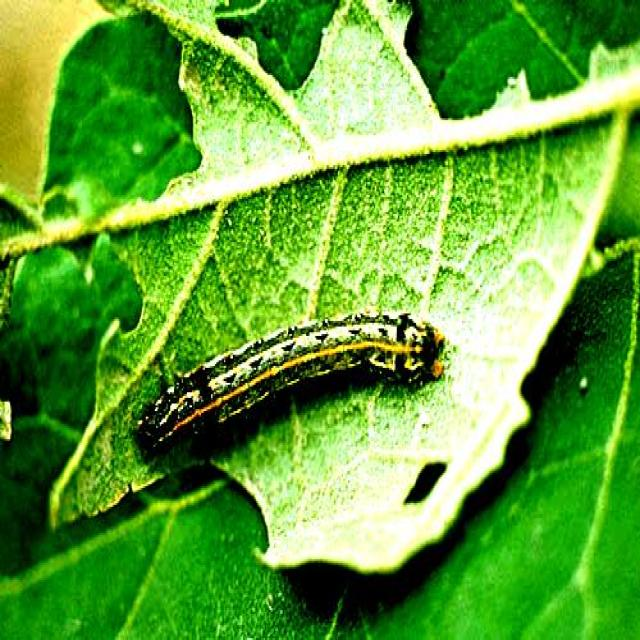armyworm: (134, 306, 447, 460)
